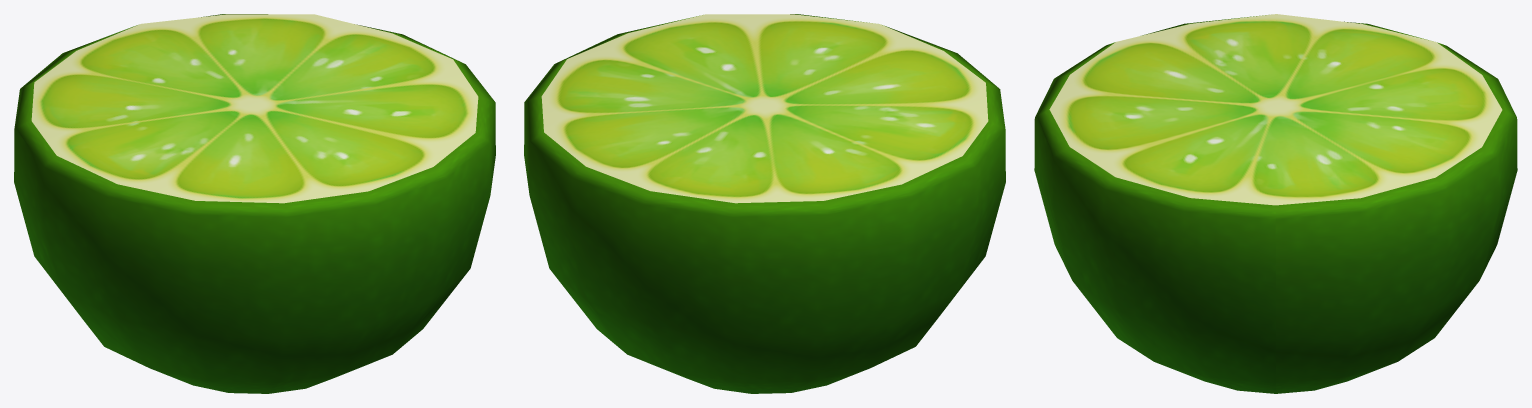
File: Lime_Half.fbx
The picture shows the model from 3 angles, left to right: view 1: azimuth 30°, elevation 25°; view 2: azimuth 150°, elevation 25°; view 3: azimuth 270°, elevation 25°; orthographic projection.
Visible parts, largest first — view 1: Lime_Half; view 2: Lime_Half; view 3: Lime_Half.
Part boxes in pixels (bbox=[...]): Lime_Half: bbox=[14, 14, 495, 393]; Lime_Half: bbox=[524, 14, 1005, 393]; Lime_Half: bbox=[1034, 14, 1517, 393].
Size of the model in its own units: 20.58 by 12.55 by 20.58.
